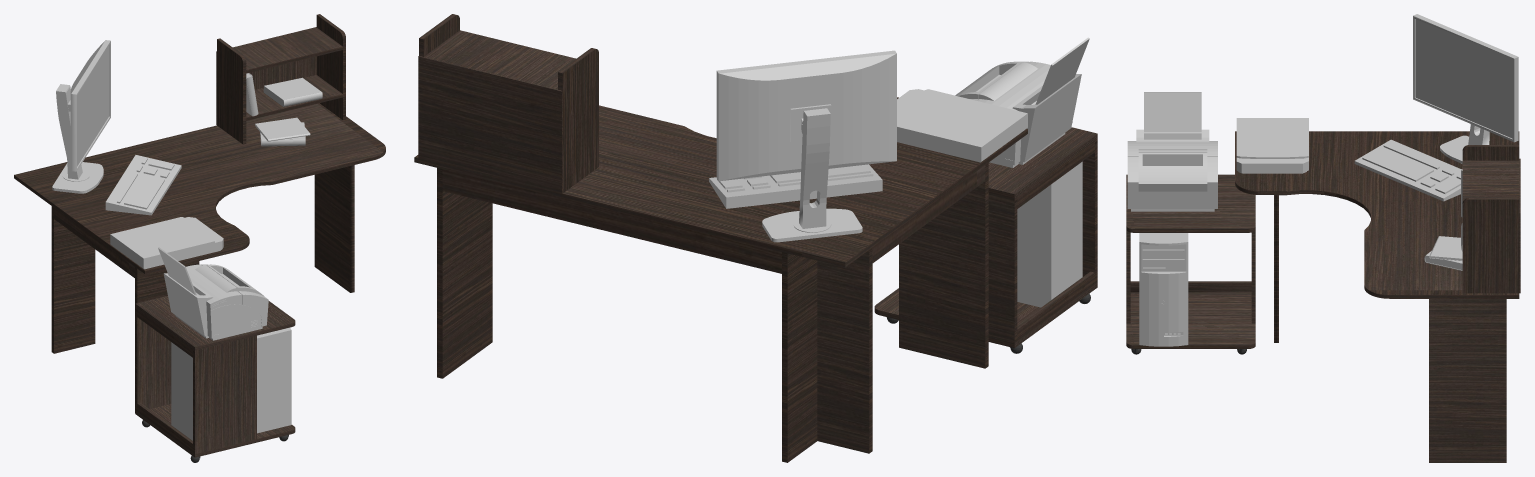
Rendered from comp__desk2.fbx.
The picture shows the model from 3 angles, left to right: view 1: azimuth 30°, elevation 25°; view 2: azimuth 150°, elevation 25°; view 3: azimuth 270°, elevation 25°; orthographic projection. The views are drawn at different scales.
Visible parts, largest first — view 1: Group13, Componen16, Group_3_1, CPU, Group11, Componen12, Group_17_1, Componen15, Group4, Componen07, Componen10, Group6 (+16 smaller); view 2: Group13, Group_17_1, Group7, Componen13, Group11, Componen12, Group9, Group_3_1, CPU, Group12, Componen07, Group6 (+13 smaller); view 3: Group13, Componen12, Group_3_1, Group_17_1, Componen08, CPU, Group_23_1, Group_23_2, Group4, Group6, Componen10, Group5 (+7 smaller).
Part boxes in pixels (bbox=[...]): Group13: bbox=[14, 103, 385, 273]; Componen16: bbox=[193, 335, 256, 453]; Group_3_1: bbox=[158, 247, 268, 340]; CPU: bbox=[171, 327, 291, 440]; Group11: bbox=[51, 206, 95, 353]; Componen12: bbox=[314, 165, 354, 292]; Group_17_1: bbox=[70, 40, 110, 171]; Componen15: bbox=[135, 307, 171, 411]; Group4: bbox=[105, 155, 181, 215]; Componen07: bbox=[217, 38, 246, 144]; Componen10: bbox=[233, 27, 342, 73]; Group6: bbox=[114, 217, 214, 258]; Group13: bbox=[414, 97, 1027, 267]; Group_17_1: bbox=[716, 50, 896, 181]; Group7: bbox=[418, 56, 562, 193]; Componen13: bbox=[899, 163, 988, 368]; Group11: bbox=[817, 248, 872, 453]; Componen12: bbox=[437, 168, 492, 378]; Group9: bbox=[442, 169, 781, 273]; Group_3_1: bbox=[955, 37, 1089, 167]; CPU: bbox=[1017, 161, 1082, 307]; Group12: bbox=[782, 252, 817, 462]; Componen07: bbox=[558, 48, 598, 192]; Group6: bbox=[897, 89, 1021, 148]; Group13: bbox=[1235, 131, 1519, 298]; Componen12: bbox=[1429, 299, 1506, 462]; Group_3_1: bbox=[1127, 92, 1217, 211]; Group_17_1: bbox=[1413, 14, 1518, 142]; Componen08: bbox=[1462, 198, 1519, 293]; CPU: bbox=[1139, 233, 1188, 346]; Group_23_1: bbox=[1126, 292, 1255, 348]; Group_23_2: bbox=[1126, 174, 1255, 232]; Group4: bbox=[1354, 139, 1461, 201]; Group6: bbox=[1236, 120, 1308, 158]; Componen10: bbox=[1462, 160, 1519, 201]; Group5: bbox=[1236, 118, 1308, 173].
Bounding box in the file's own units: 151 × 126 × 152.
